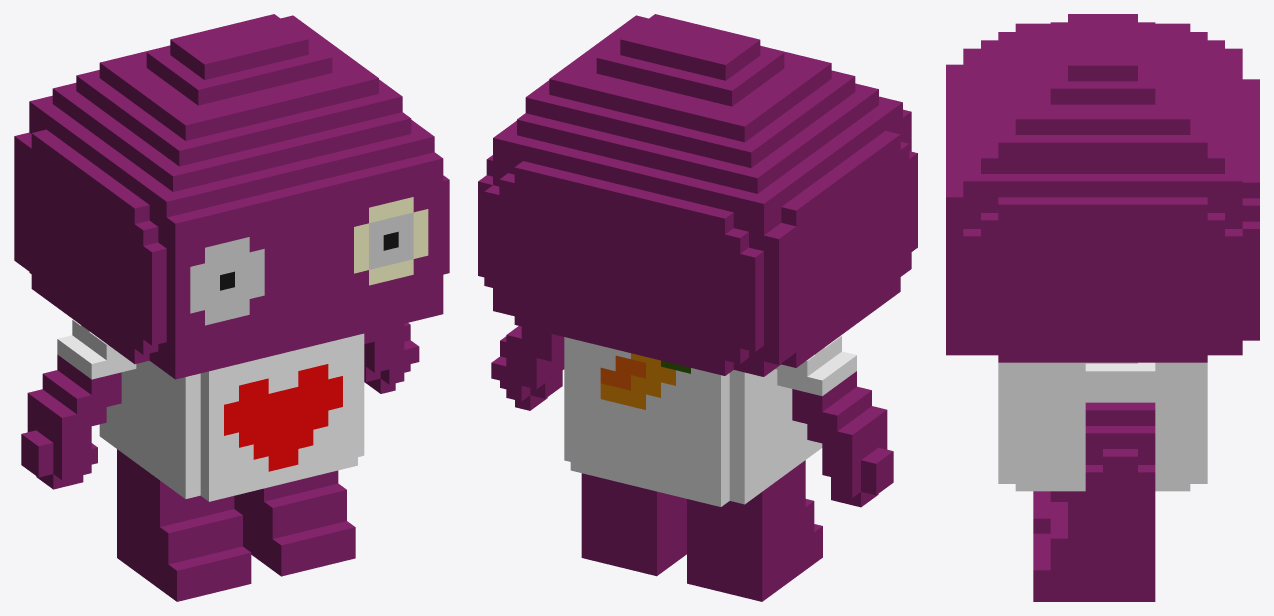
Rendered from KCG.fbx.
3 renders of one model, left to right at view 1: azimuth 30°, elevation 25°; view 2: azimuth 150°, elevation 25°; view 3: azimuth 270°, elevation 25°, orthographic.
Visible parts, largest first — view 1: Untitled; view 2: Untitled; view 3: Untitled.
Part boxes in pixels (x1,y1,x2,y2): Untitled: [14, 14, 449, 601]; Untitled: [478, 14, 917, 601]; Untitled: [946, 14, 1259, 601].
Bounding box in the file's own units: 250 × 330 × 180.
Materials: 1 (1 with a texture image).
